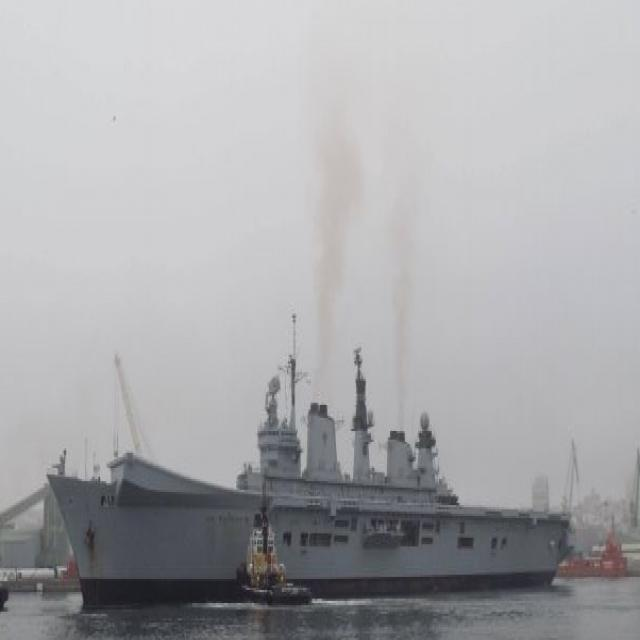Portanaves: (46, 319, 575, 610)
